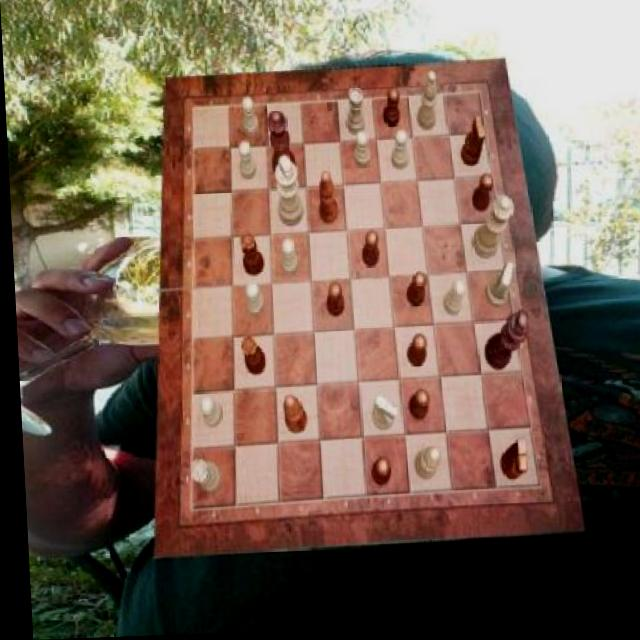bishop: (315, 173, 337, 228), (279, 396, 304, 437)
black-bishop: (480, 313, 527, 374)
black-king: (458, 120, 484, 171), (494, 442, 523, 484)
black-knight: (468, 177, 492, 216), (379, 92, 399, 131), (403, 274, 424, 309), (358, 233, 377, 271), (402, 336, 423, 370), (404, 391, 426, 423), (323, 283, 342, 318), (367, 460, 388, 488)
black-pawn: (266, 111, 296, 185)
black-queen: (237, 234, 262, 279), (237, 337, 263, 378)
black-rook: (413, 75, 438, 134), (410, 449, 437, 484)
white-bishop: (273, 156, 303, 230)
white-king: (480, 265, 512, 312), (368, 397, 395, 434)
white-knight: (440, 284, 464, 319), (195, 397, 218, 430), (388, 135, 407, 174), (237, 144, 255, 183), (240, 99, 257, 139), (278, 241, 296, 278), (352, 134, 370, 170), (243, 282, 261, 317)
white-pawn: (469, 199, 514, 263)
white-queen: (186, 460, 218, 495), (344, 90, 364, 138)
